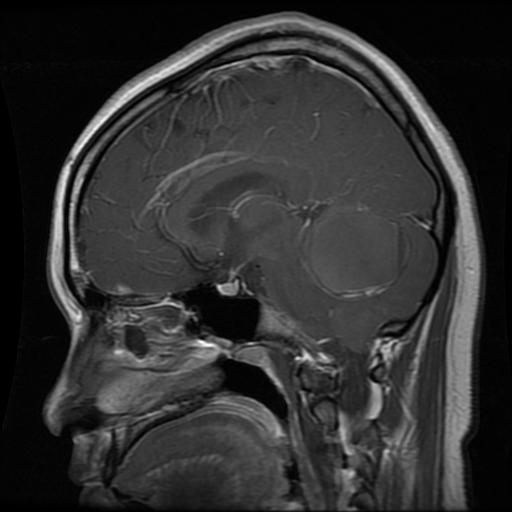Gliomia_tumour: (306, 206, 403, 298)
